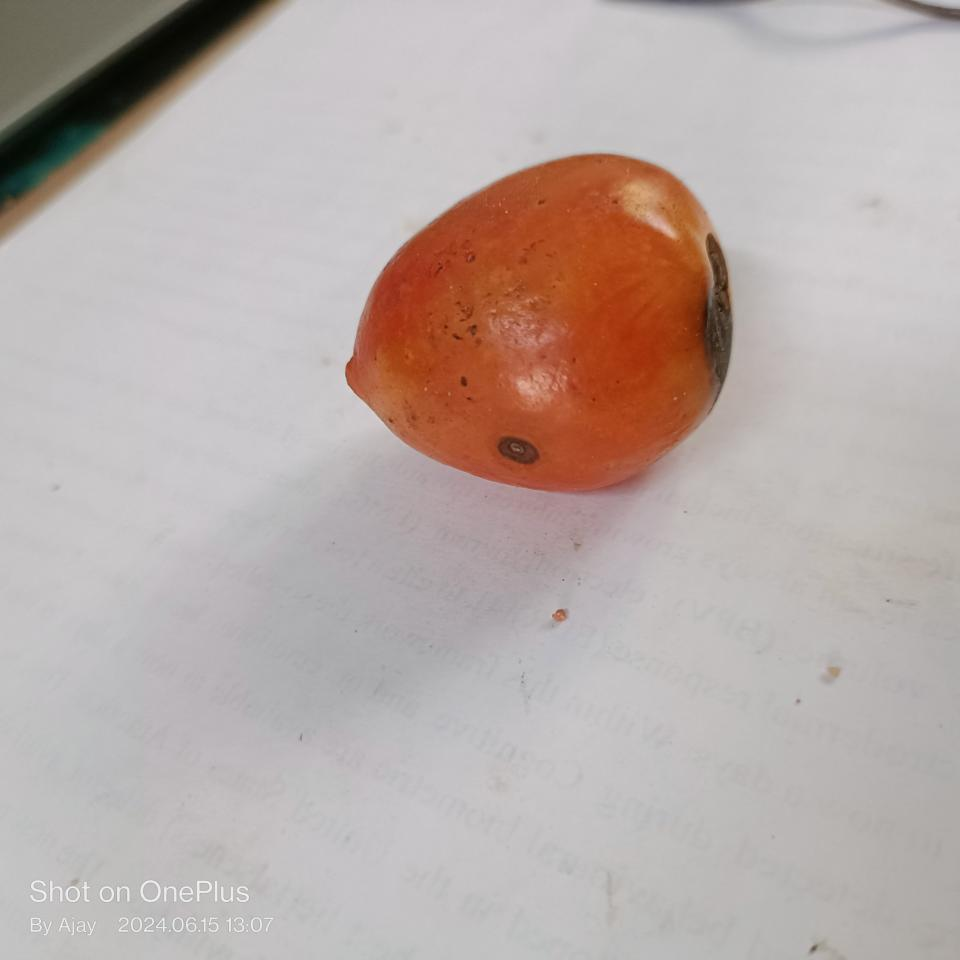Bacterial_Spot: (494, 435, 544, 472)
